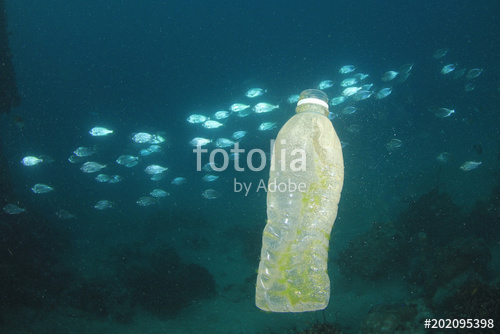litter: (248, 86, 356, 319)
